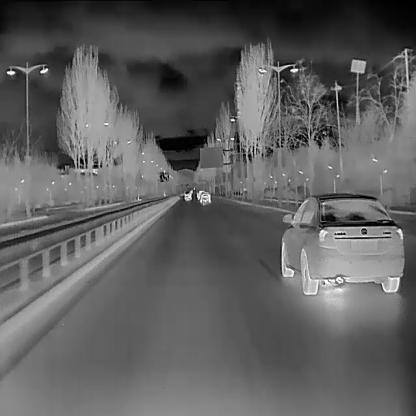car: (277, 190, 405, 295), (199, 190, 211, 203), (183, 190, 192, 200), (197, 189, 203, 199), (192, 186, 195, 189)
